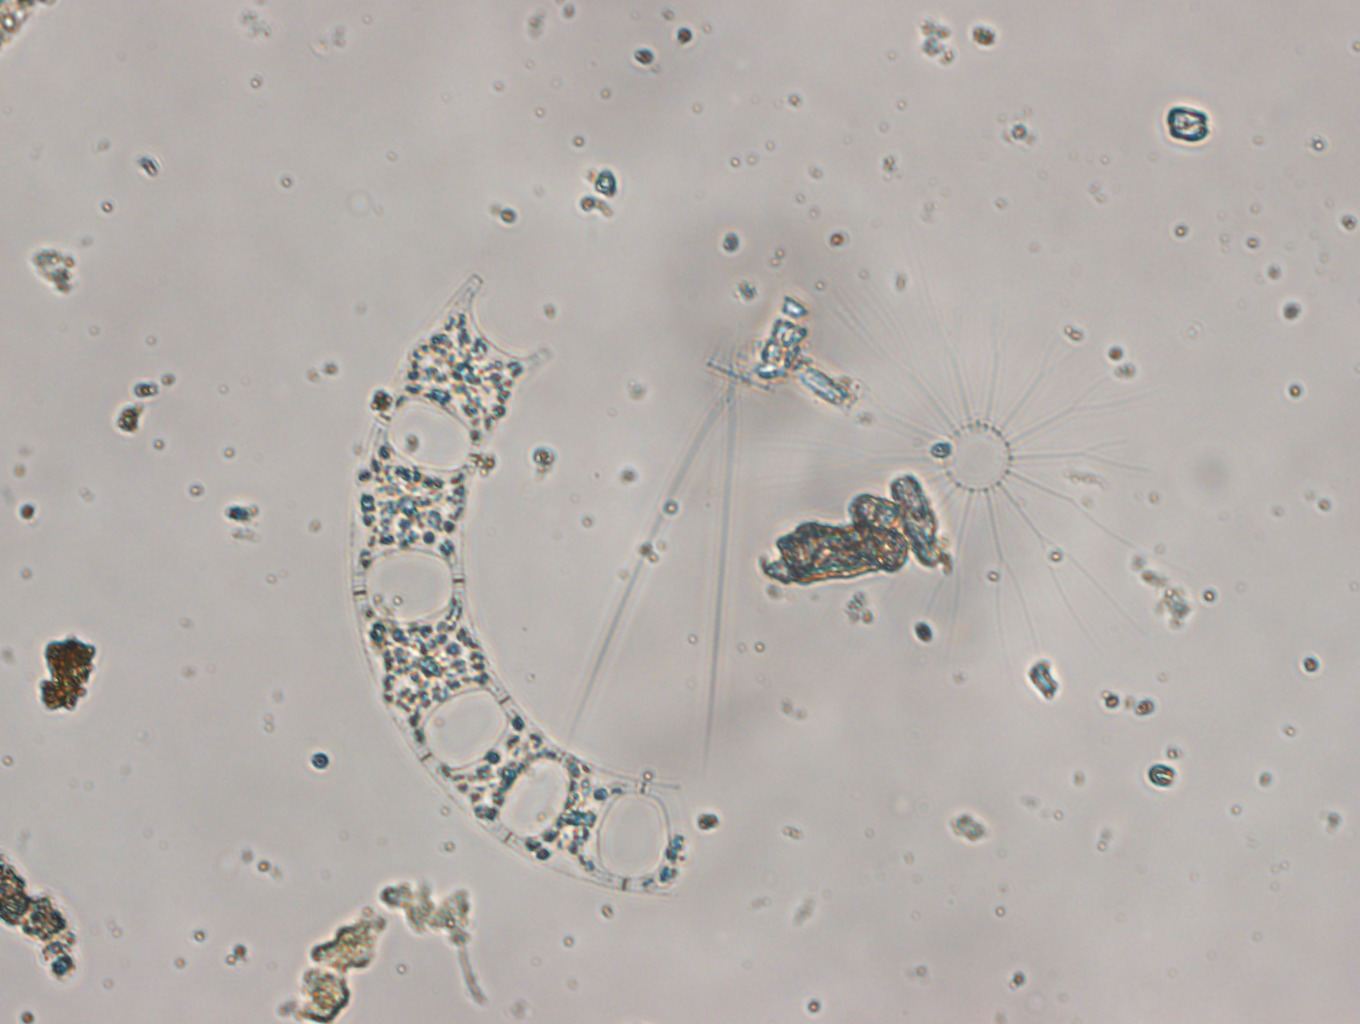bacteriastrum: (812, 268, 1188, 657)
chaetoceros: (563, 281, 810, 779)
eucampia: (347, 275, 696, 895)
